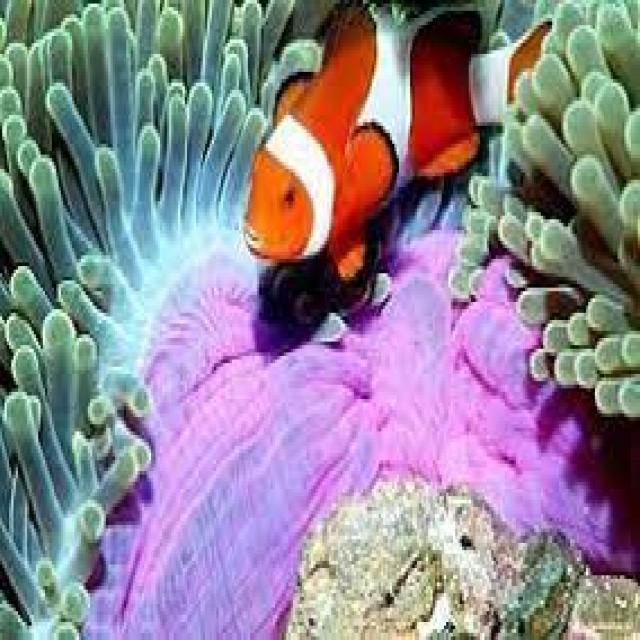ClownFish: (241, 7, 557, 264)
